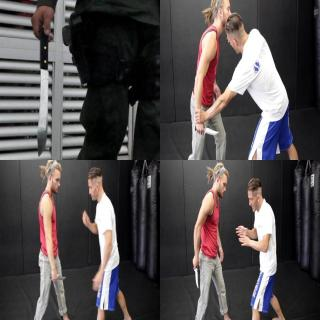knife: (29, 13, 53, 159), (193, 121, 221, 137), (191, 256, 199, 290), (48, 270, 68, 283)
